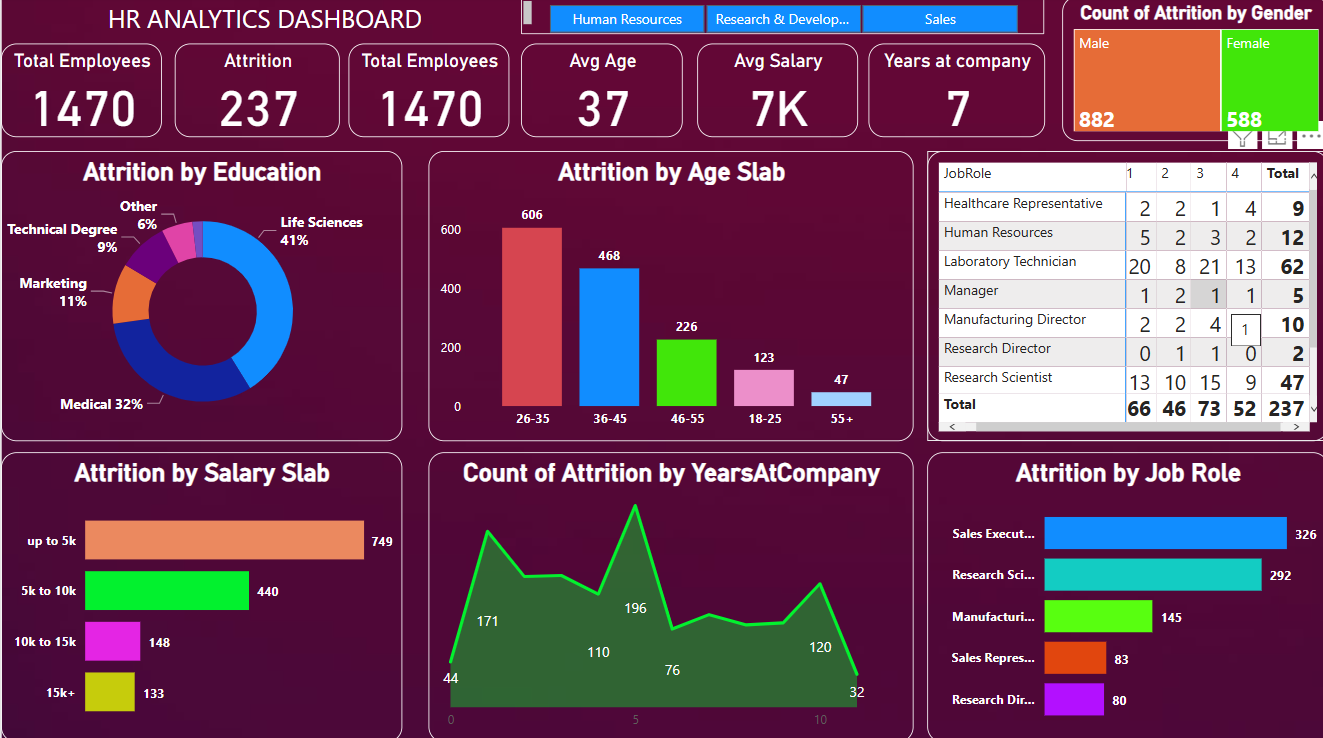

This screenshot's page, from the dashboard's own definition file:
{"tool":"powerbi","page":{"name":"Page 1","canvas":[1280,720],"ordinal":0},"visuals":[{"type":"donutChart","title":" Attrition by Education","fields":{"Category":["WA_Fn-UseC_-HR-Employee-Attrition.EducationField"],"Y":["CountNonNull(WA_Fn-UseC_-HR-Employee-Attrition.Attrition)"]},"box":[0,149.5,386.9,279.9],"z":0},{"type":"clusteredBarChart","title":" Attrition by Salary Slab","fields":{"Y":["CountNonNull(WA_Fn-UseC_-HR-Employee-Attrition.Attrition)"],"Category":["WA_Fn-UseC_-HR-Employee-Attrition.salary slab"]},"box":[0,440.4,386.9,279.9],"z":1000},{"type":"columnChart","title":" Attrition by Age Slab","fields":{"Y":["CountNonNull(WA_Fn-UseC_-HR-Employee-Attrition.Attrition)"],"Category":["WA_Fn-UseC_-HR-Employee-Attrition.Age Slab"]},"box":[412.9,149.5,467.8,279.9],"z":2000},{"type":"pivotTable","fields":{"Rows":["WA_Fn-UseC_-HR-Employee-Attrition.JobRole"],"Columns":["WA_Fn-UseC_-HR-Employee-Attrition.JobSatisfaction"],"Values":["Sum(WA_Fn-UseC_-HR-Employee-Attrition.Attiration count)"]},"box":[893.1,149.5,386.9,279.9],"z":3000},{"type":"clusteredBarChart","title":" Attrition by Job Role","fields":{"Y":["CountNonNull(WA_Fn-UseC_-HR-Employee-Attrition.Attrition)"],"Category":["WA_Fn-UseC_-HR-Employee-Attrition.JobRole"]},"box":[893.1,440.4,386.9,279.9],"z":4000},{"type":"treemap","fields":{"Values":["CountNonNull(WA_Fn-UseC_-HR-Employee-Attrition.Attrition)"],"Group":["WA_Fn-UseC_-HR-Employee-Attrition.Gender"]},"box":[1023.5,0,256.5,139.9],"z":5000},{"type":"slicer","fields":{"Values":["WA_Fn-UseC_-HR-Employee-Attrition.Department"]},"box":[502.1,0,504.9,37],"z":6000},{"type":"card","title":"Total Employees","fields":{"Values":["Sum(WA_Fn-UseC_-HR-Employee-Attrition.EmployeeCount)"]},"box":[0,45.2,155.2,90.5],"z":7000},{"type":"card","title":"Attrition","fields":{"Values":["Sum(WA_Fn-UseC_-HR-Employee-Attrition.Attiration count)"]},"box":[167.4,45.3,159.1,90.5],"z":8000},{"type":"card","title":"Total Employees","fields":{"Values":["Sum(WA_Fn-UseC_-HR-Employee-Attrition.EmployeeCount)"]},"box":[334.7,45.3,155,90.5],"z":9000},{"type":"card","title":"Avg Age","fields":{"Values":["Avg(WA_Fn-UseC_-HR-Employee-Attrition.Age)"]},"box":[502.1,45.3,156.4,90.5],"z":10000},{"type":"card","title":"Avg Salary","fields":{"Values":["Avg(WA_Fn-UseC_-HR-Employee-Attrition.MonthlyIncome)"]},"box":[672.2,45.3,155,90.5],"z":11000},{"type":"card","title":"Years at company","fields":{"Values":["Avg(WA_Fn-UseC_-HR-Employee-Attrition.YearsAtCompany)"]},"box":[836.9,45.3,170.1,90.5],"z":12000},{"type":"textbox","box":[0,0,517.1,36.7],"z":13000},{"type":"stackedAreaChart","fields":{"Category":["WA_Fn-UseC_-HR-Employee-Attrition.YearsAtCompany"],"Y":["CountNonNull(WA_Fn-UseC_-HR-Employee-Attrition.Attrition)"]},"box":[412.9,440.4,467.8,279.9],"z":14000}]}

Visuals, with their boxes in screenshot pixels (x1, y1, x2, y2), scaled from the page's 1280x720 canvas onto the 1323x738 screenshot:
" Attrition by Education" donutChart: [0,153,400,440]
" Attrition by Salary Slab" clusteredBarChart: [0,451,400,737]
" Attrition by Age Slab" columnChart: [427,153,910,440]
pivotTable - WA_Fn-UseC_-HR-Employee-Attrition.JobRole x WA_Fn-UseC_-HR-Employee-Attrition.JobSatisfaction: [923,153,1322,440]
" Attrition by Job Role" clusteredBarChart: [923,451,1322,737]
treemap - CountNonNull(WA_Fn-UseC_-HR-Employee-Attrition.Attrition) x WA_Fn-UseC_-HR-Employee-Attrition.Gender: [1058,0,1322,143]
slicer - WA_Fn-UseC_-HR-Employee-Attrition.Department: [519,0,1041,38]
"Total Employees" card: [0,46,160,139]
"Attrition" card: [173,46,337,139]
"Total Employees" card: [346,46,506,139]
"Avg Age" card: [519,46,681,139]
"Avg Salary" card: [695,46,855,139]
"Years at company" card: [865,46,1041,139]
textbox: [0,0,534,38]
stackedAreaChart - WA_Fn-UseC_-HR-Employee-Attrition.YearsAtCompany x CountNonNull(WA_Fn-UseC_-HR-Employee-Attrition.Attrition): [427,451,910,737]
